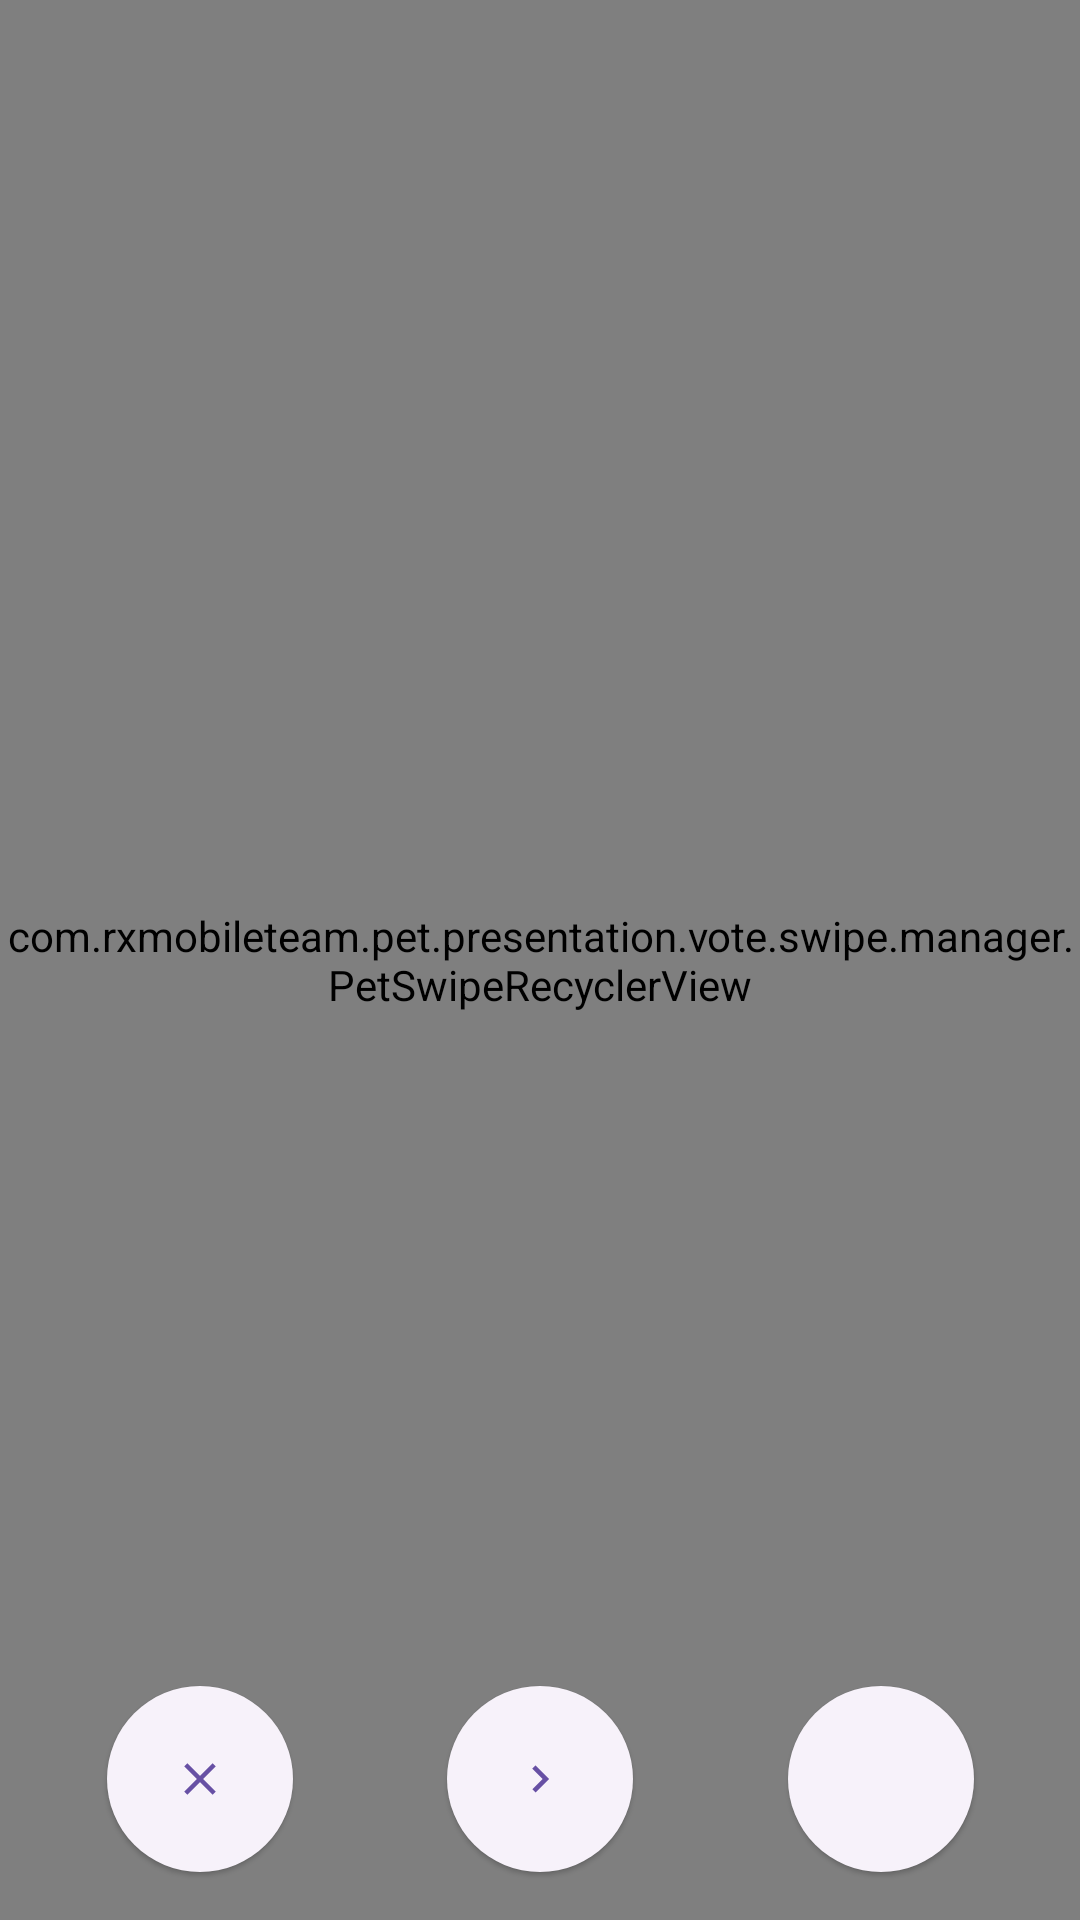

Point at icon controls on the screen. Image size 1080x1920, points as [x,y].
Close: [200,1779]
next: [540,1779]
